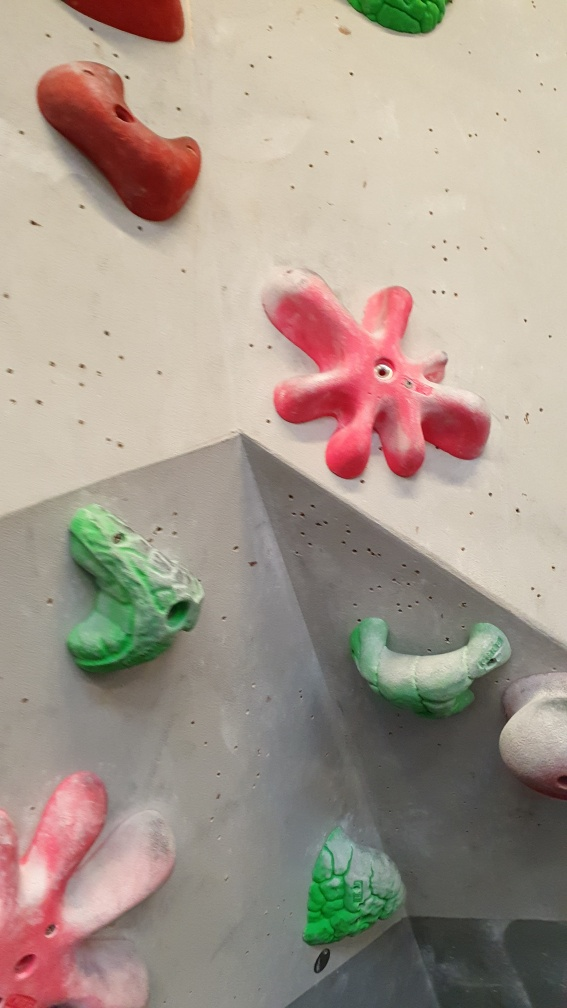Hand Start: (309, 948, 337, 978)
Jug: (347, 603, 515, 725), (301, 828, 401, 948)
Octopus Pinch: (259, 259, 496, 484), (2, 766, 178, 1007)
Sloper: (495, 675, 567, 801)
